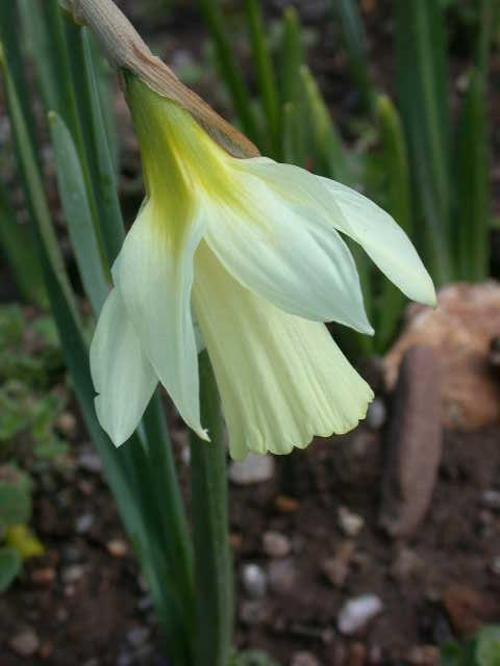flower1: (88, 71, 436, 461)
